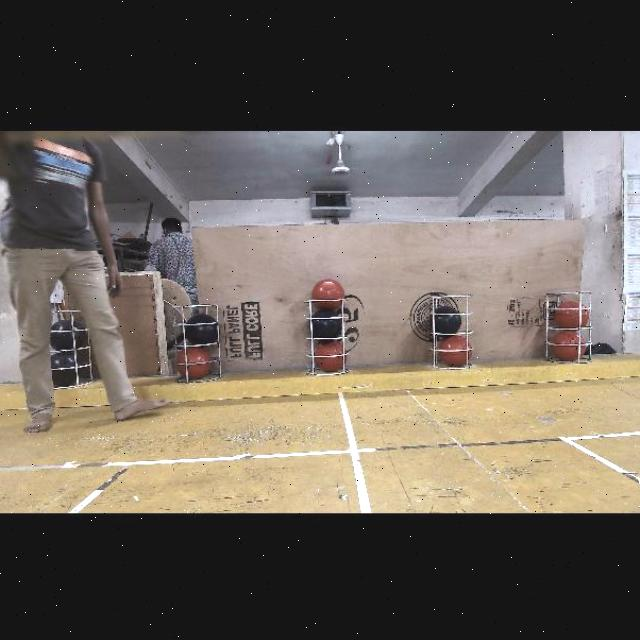P: (309, 311, 343, 339), (185, 316, 219, 344), (52, 354, 82, 384), (52, 322, 84, 350), (431, 306, 459, 334)
R: (310, 279, 347, 313), (175, 349, 209, 378), (551, 333, 585, 361), (441, 337, 471, 365), (316, 342, 346, 370), (558, 302, 588, 328)
S: (172, 300, 225, 384), (541, 292, 599, 366), (427, 286, 473, 376), (306, 293, 352, 379), (45, 307, 91, 391)
